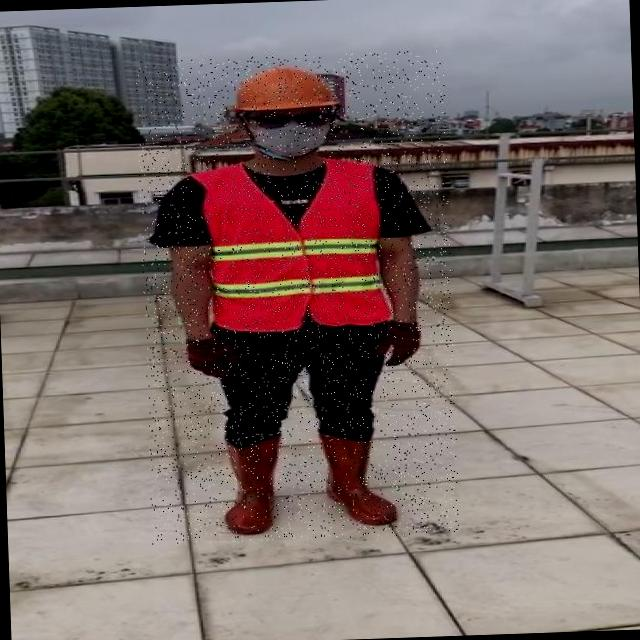boots: (318, 432, 395, 526), (222, 440, 282, 540)
gloves: (166, 310, 244, 376), (364, 304, 422, 377)
helmet: (225, 62, 352, 118)
vest: (196, 160, 388, 330)
